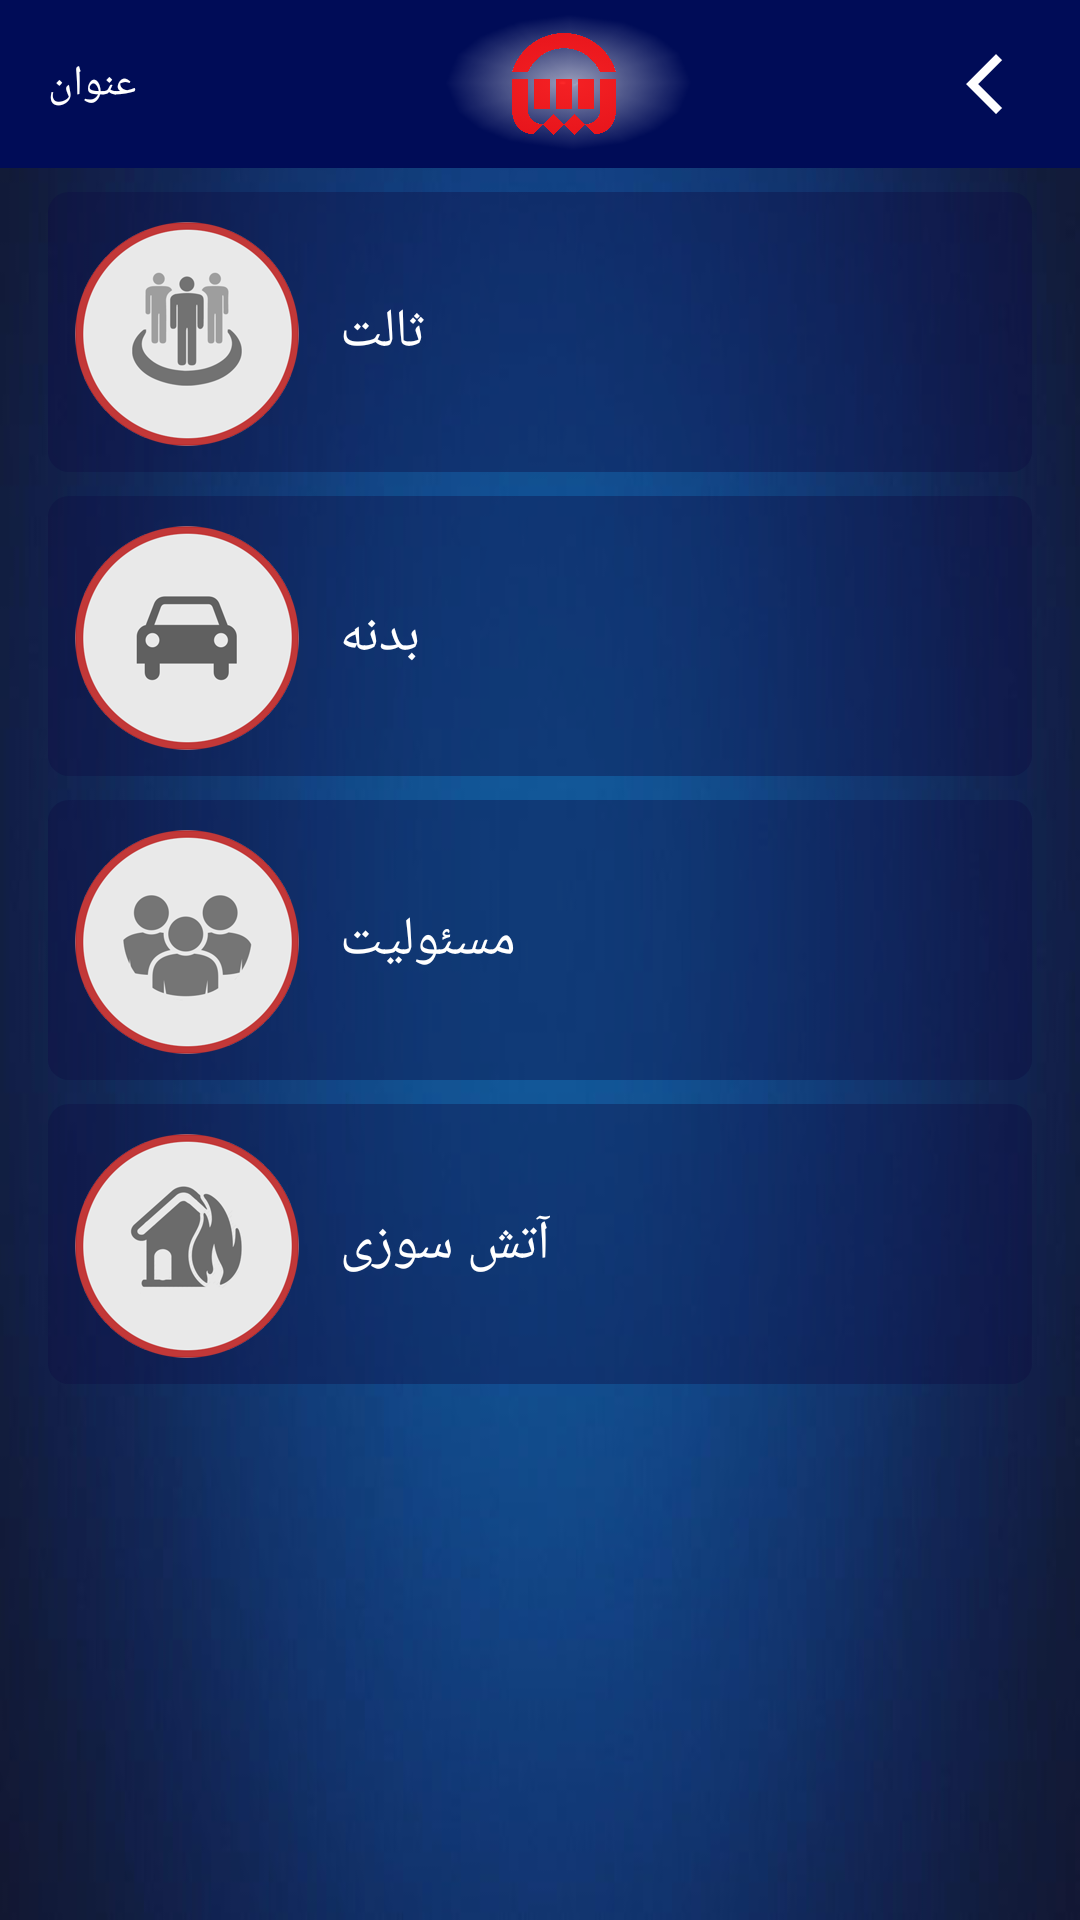

Icons on this 1080x1920 Android screen, each with its box as {"left": x1, "top": y1, "right": x2, "bottom": y2}:
car: {"left": 75, "top": 508, "right": 316, "bottom": 764}
